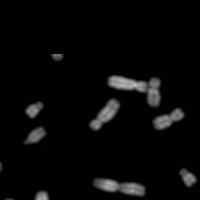chromosome: (93, 175, 147, 196), (89, 98, 118, 132), (108, 73, 148, 94), (153, 108, 184, 131), (147, 76, 162, 106), (23, 127, 47, 145), (179, 167, 197, 189), (25, 100, 45, 119), (35, 189, 52, 200), (1, 198, 16, 200), (0, 157, 1, 175)
